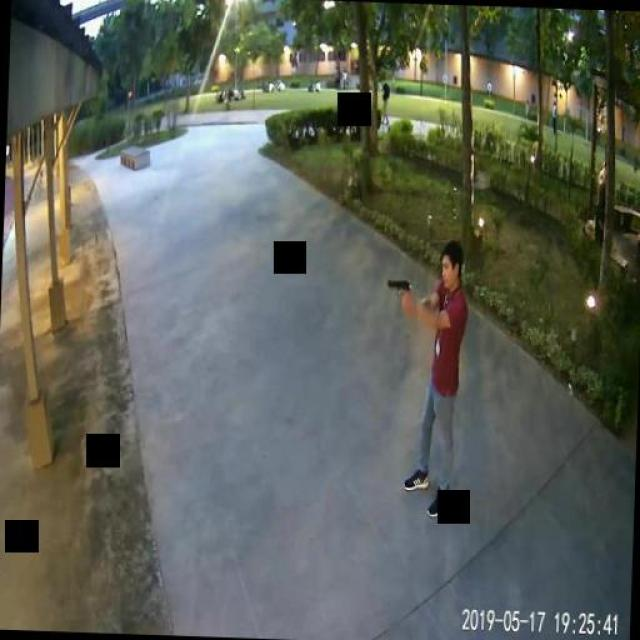gun: (385, 275, 411, 309)
